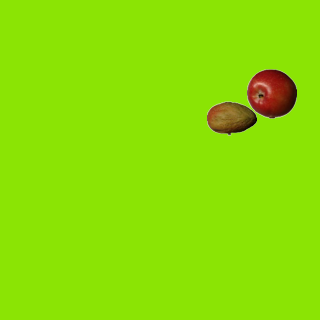Apple Braeburn: (246, 68, 296, 118)
Papaya: (206, 93, 256, 143)
